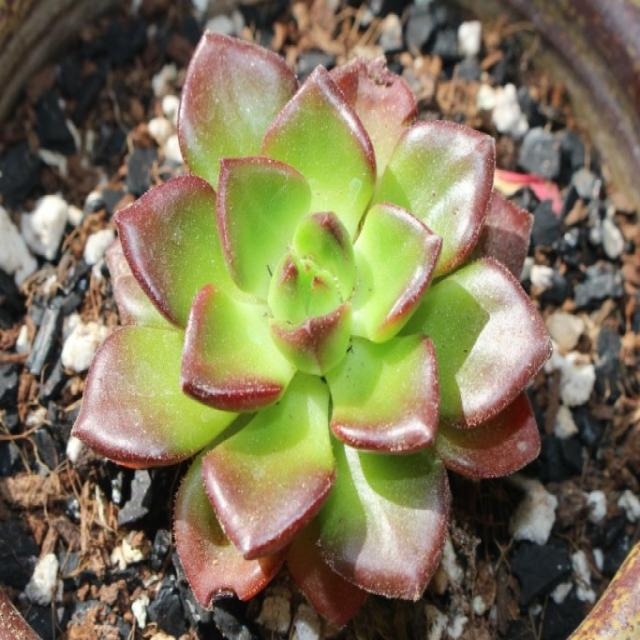Letizia: (74, 33, 550, 623)
